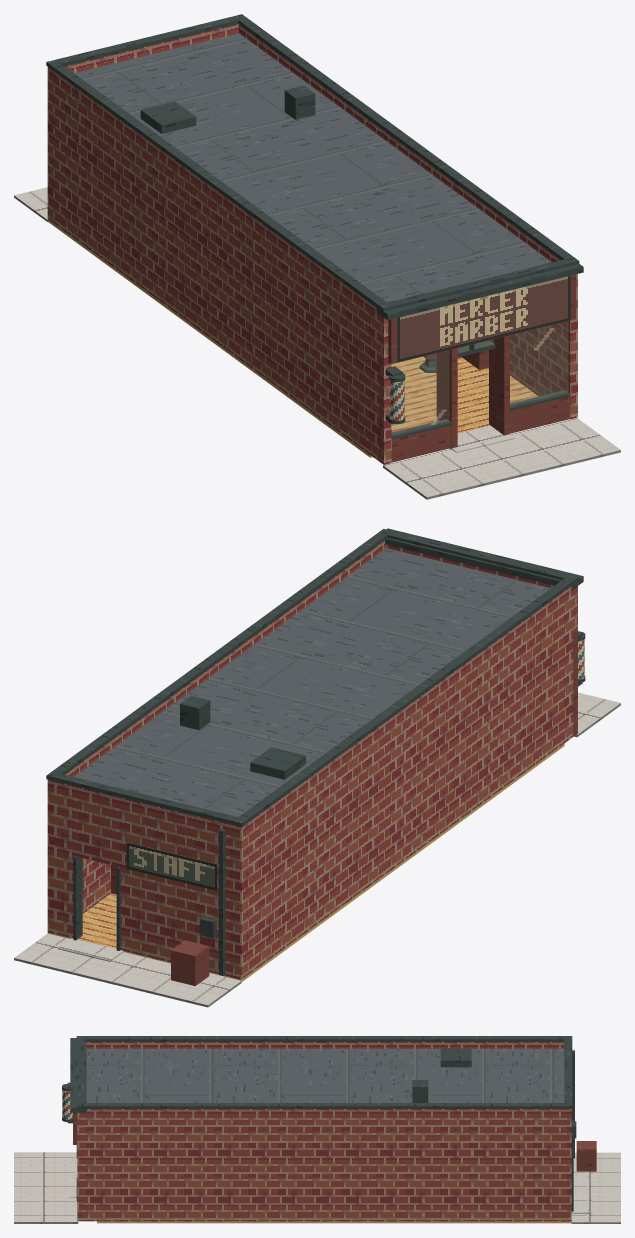
Rendered from barber-1940-far.glb.
The picture shows the model from 3 angles, top to bottom: view 1: azimuth 30°, elevation 25°; view 2: azimuth 150°, elevation 25°; view 3: azimuth 270°, elevation 25°; orthographic projection. The views are drawn at different scales.
Parts seen in each view (by area): view 1: shell, lot, sign_name, fixed_interior; view 2: shell, lot, fixed_interior, sign_staff; view 3: shell, lot, fixed_interior.
Boxes of the visible parts, x1,y1,x2,y2 form: shell: (46,14,583,464); lot: (14,187,620,499); sign_name: (397,275,570,362); fixed_interior: (47,219,538,457); shell: (46,528,585,979); lot: (14,692,620,1007); fixed_interior: (47,743,564,981); sign_staff: (126,842,216,890); shell: (62,1036,591,1221); lot: (14,1141,620,1223); fixed_interior: (97,1221,571,1223).
Size of what is drawn, in the model's own units: 6.05 by 4.99 by 22.1.
Materials: 11 (11 with a texture image).
